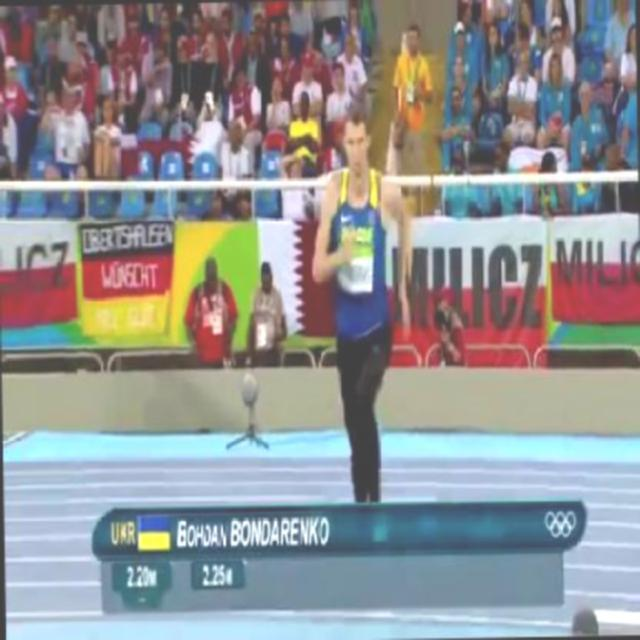non-fight: (308, 100, 414, 500)
